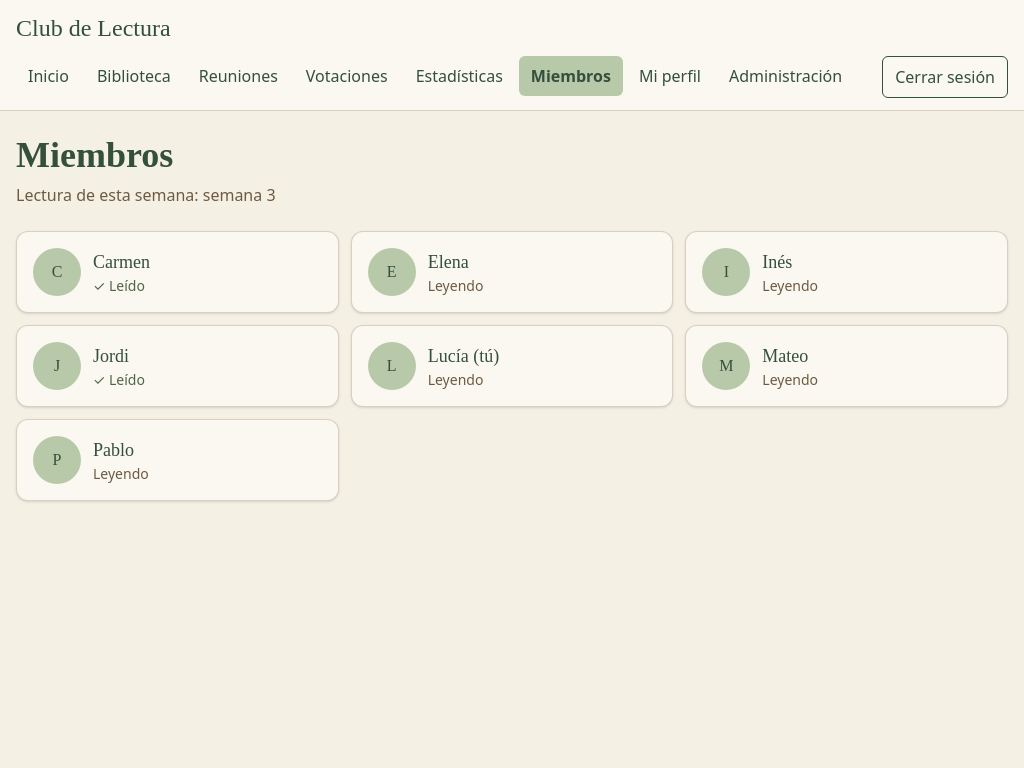
Member profile › opens a profile from Miembros and goes back
Click the link "P Pablo Leyendo": (57,460) [16,419,339,501]
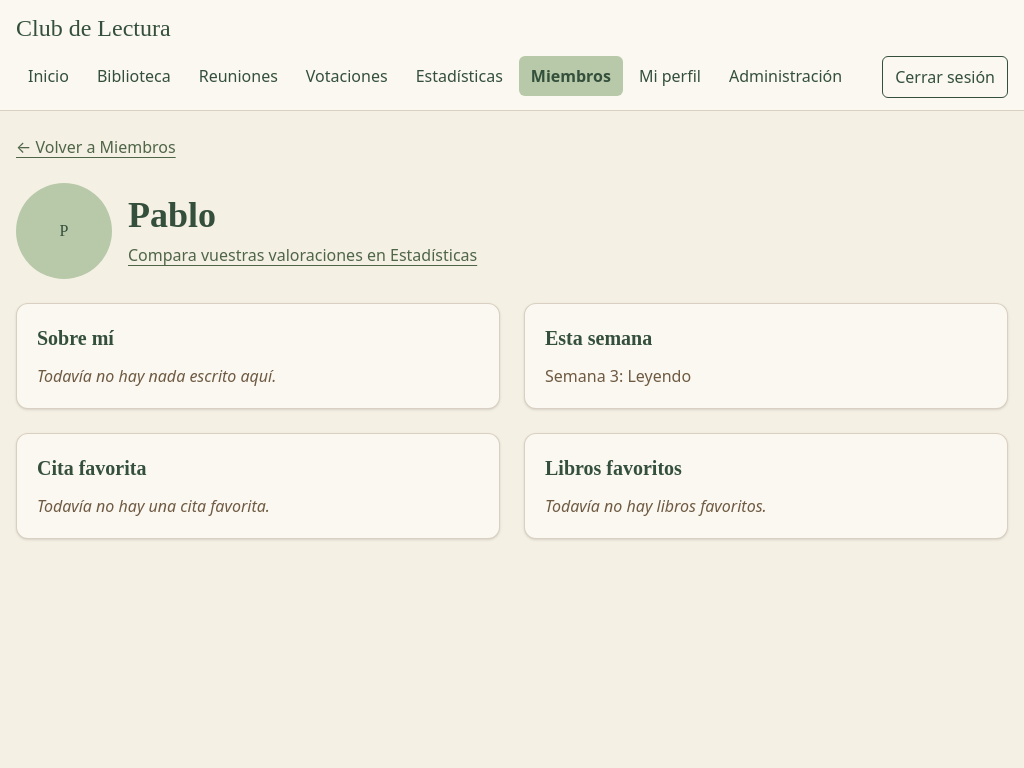
Now the heading "Pablo" is shown, box [128,195,216,235]
Click the link "← Volver a Miembros": (96,147) [16,136,176,158]
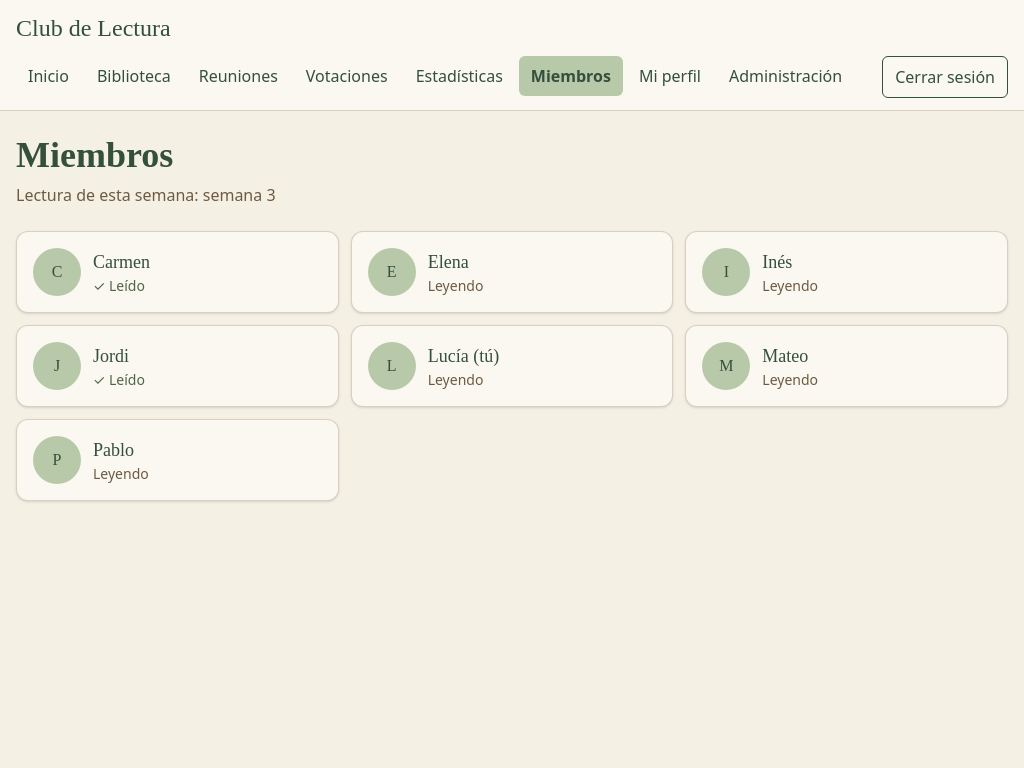
Now the heading "Miembros" is shown, box [16,135,173,175]
